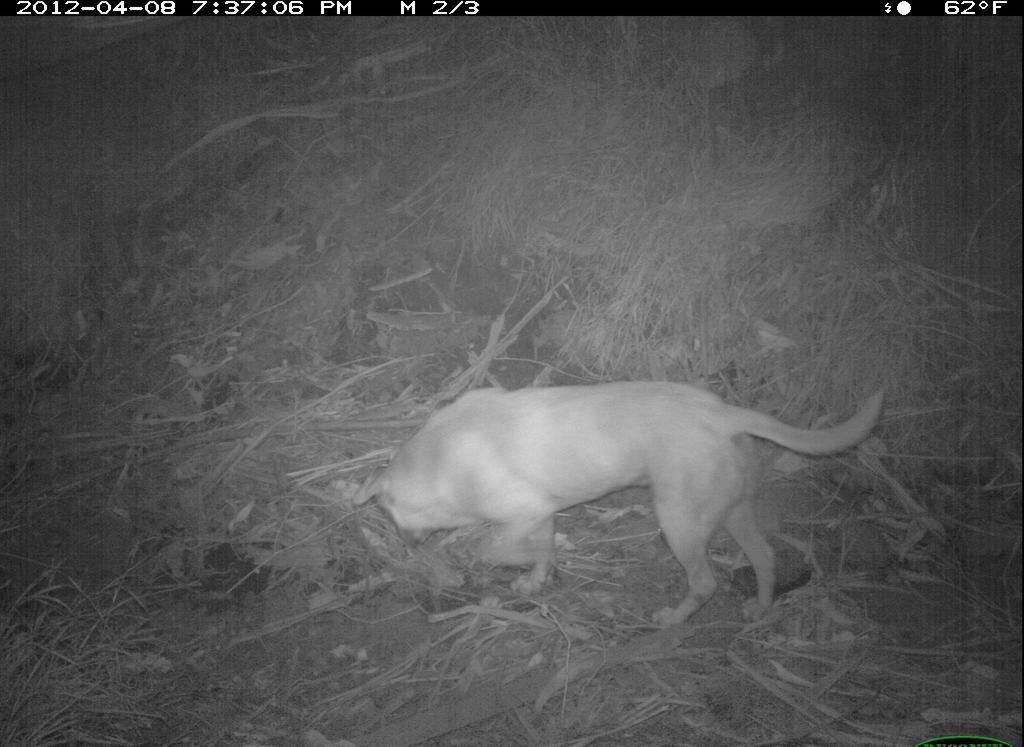dog: (349, 369, 895, 649)
